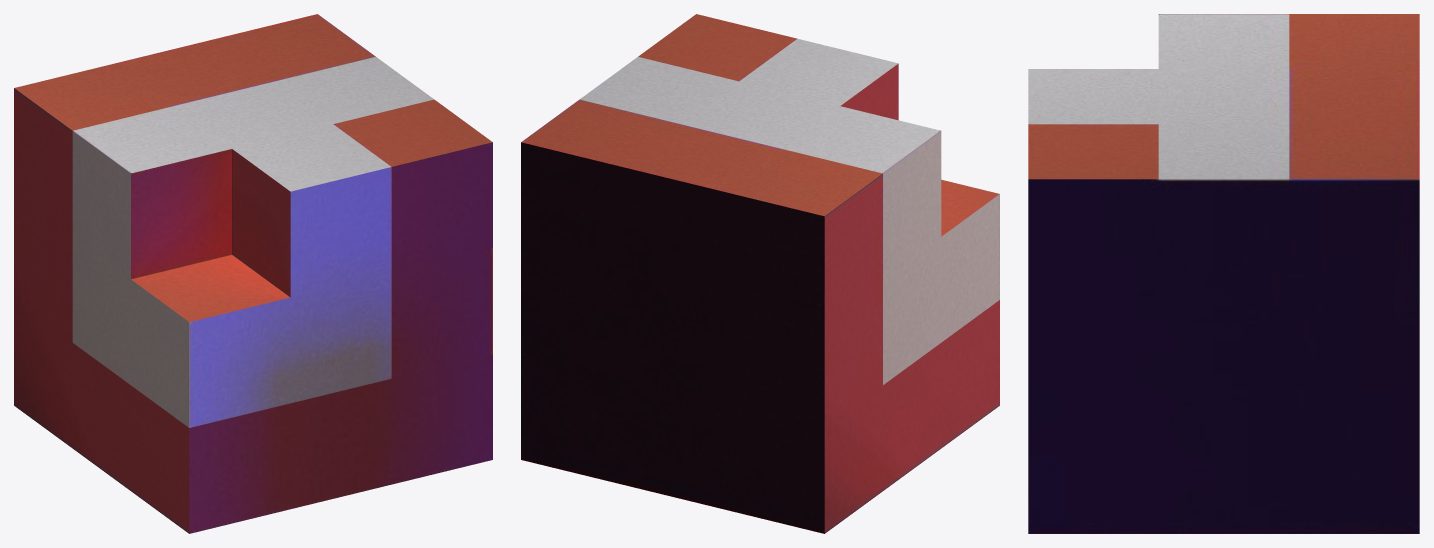
The model's file is icon_babylon.glb.
The picture shows the model from 3 angles, left to right: view 1: azimuth 30°, elevation 25°; view 2: azimuth 150°, elevation 25°; view 3: azimuth 270°, elevation 25°; orthographic projection. The views are drawn at different scales.
Visible parts, largest first — view 1: icon_babylon; view 2: icon_babylon; view 3: icon_babylon.
Part boxes in pixels (<box>): icon_babylon: <box>14,14,492,533</box>; icon_babylon: <box>521,14,999,533</box>; icon_babylon: <box>1028,14,1419,533</box>.
Bounding box in the file's own units: 3.07 × 3.07 × 3.07.
1 material, 1 textured.
